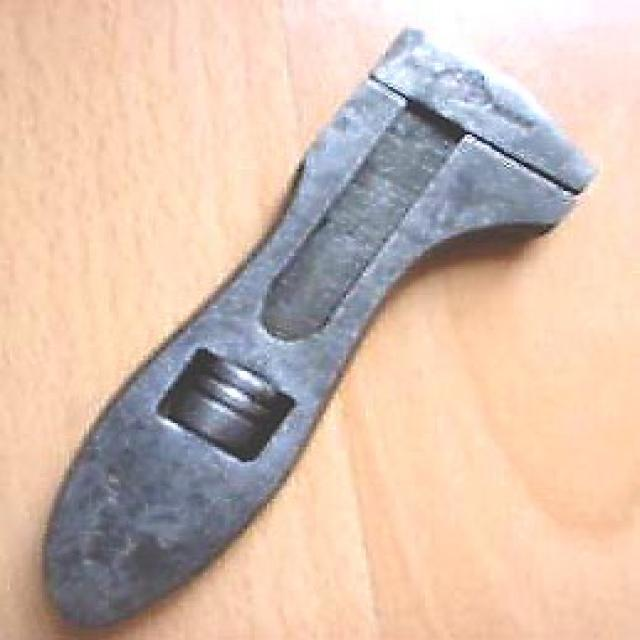wrench: (34, 21, 598, 634)
